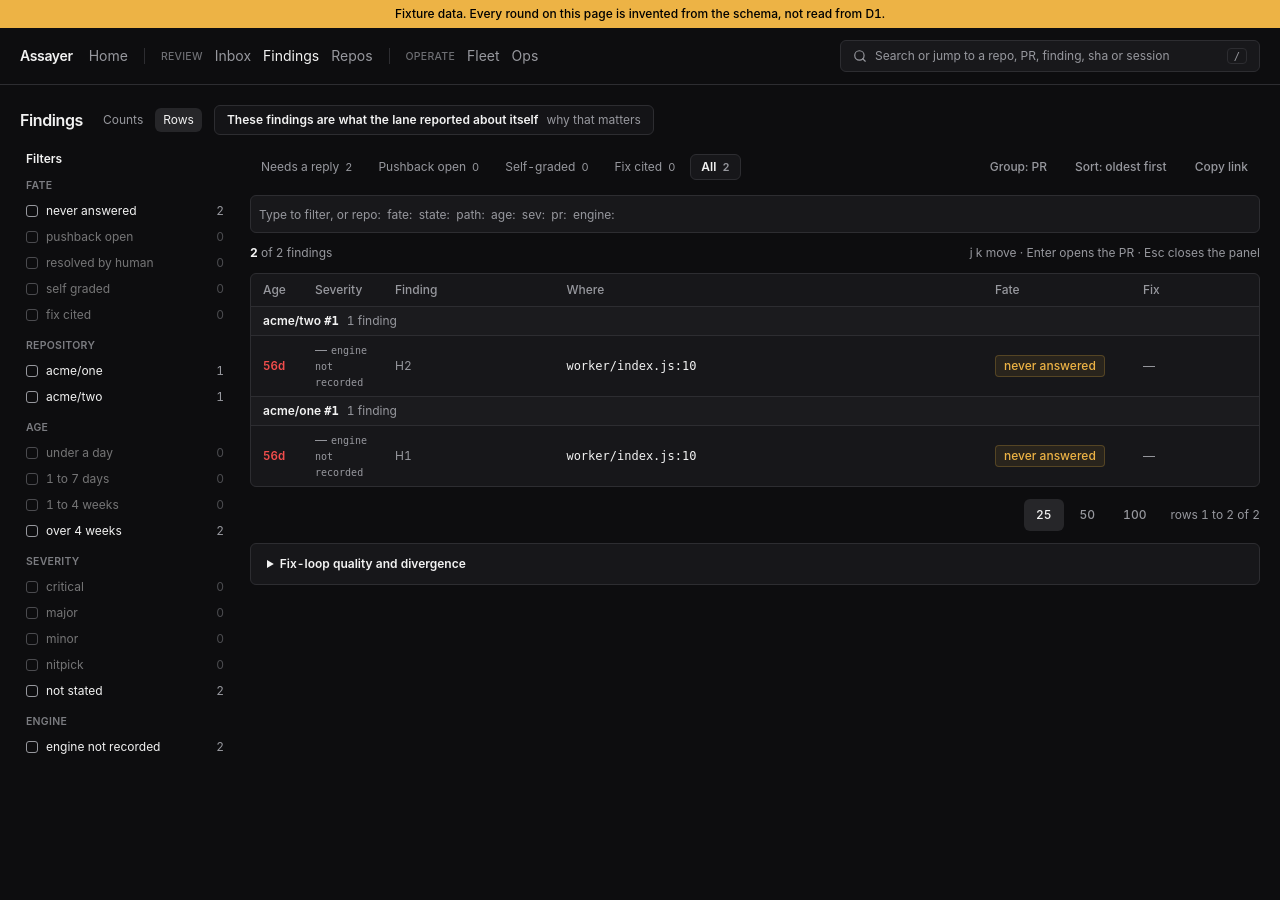
Test: /findings: the inbox › clicking a facet updates the list
Expected: the text "H1" is shown, [395,448,412,463]
Expected: the text "H2" is shown, [395,358,412,373]
Click the button with test id "facet-repository-acme/one".
click(125, 371)  # box [20,359,230,383]
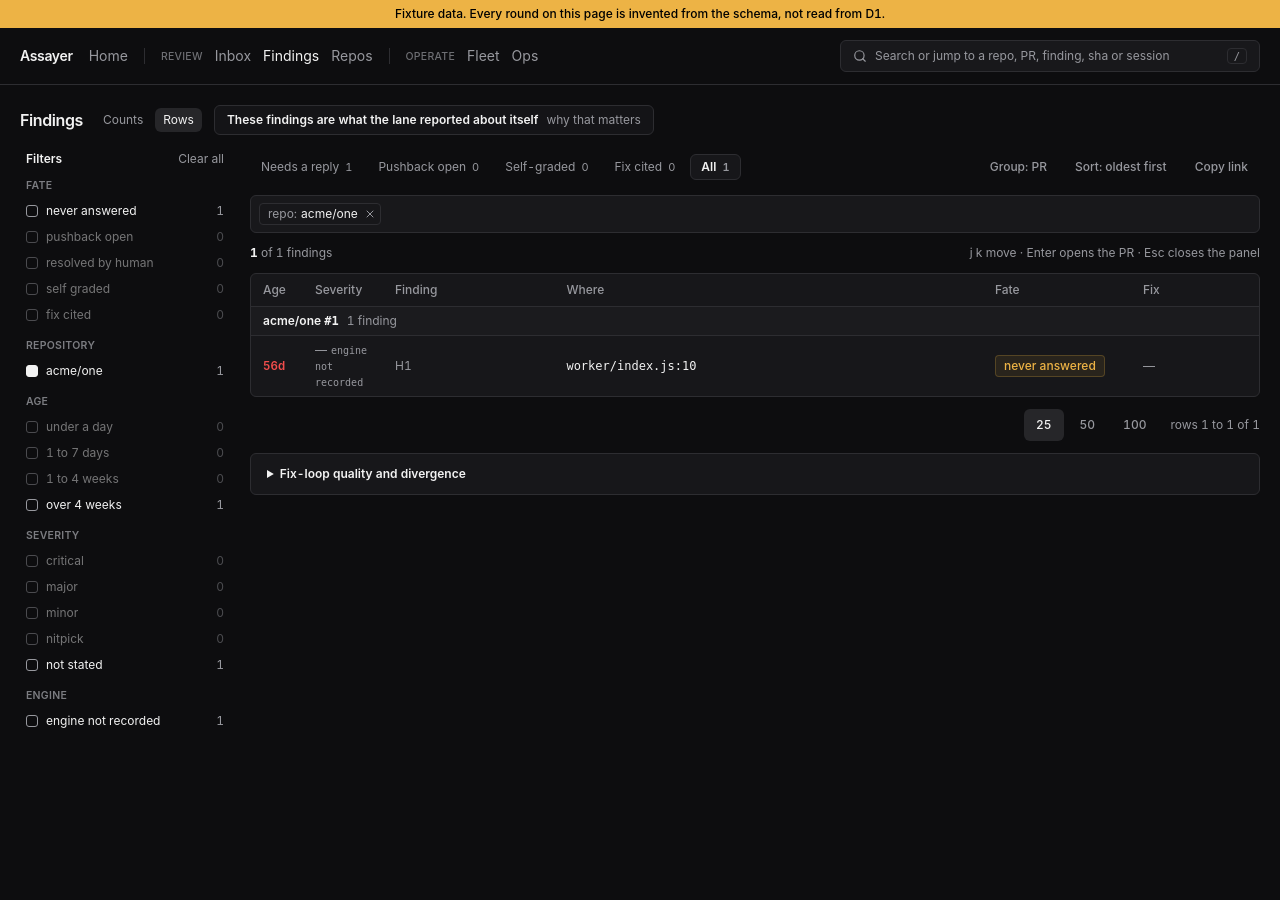
Expected: the text "H1" is shown, [395,358,412,373]
Expected: the text "H2" is gone
